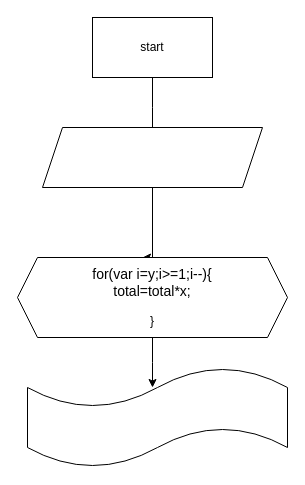
Image size: 305x485. Some labels were removed from this diagram. The shapes that lost their labels are listed below. From the top down, each one's box as (x1, y1, x2, y2) in pixels, then its label:
(42, 126, 262, 188): var x; var y; var total =1;
(26, 366, 288, 468): total ;
